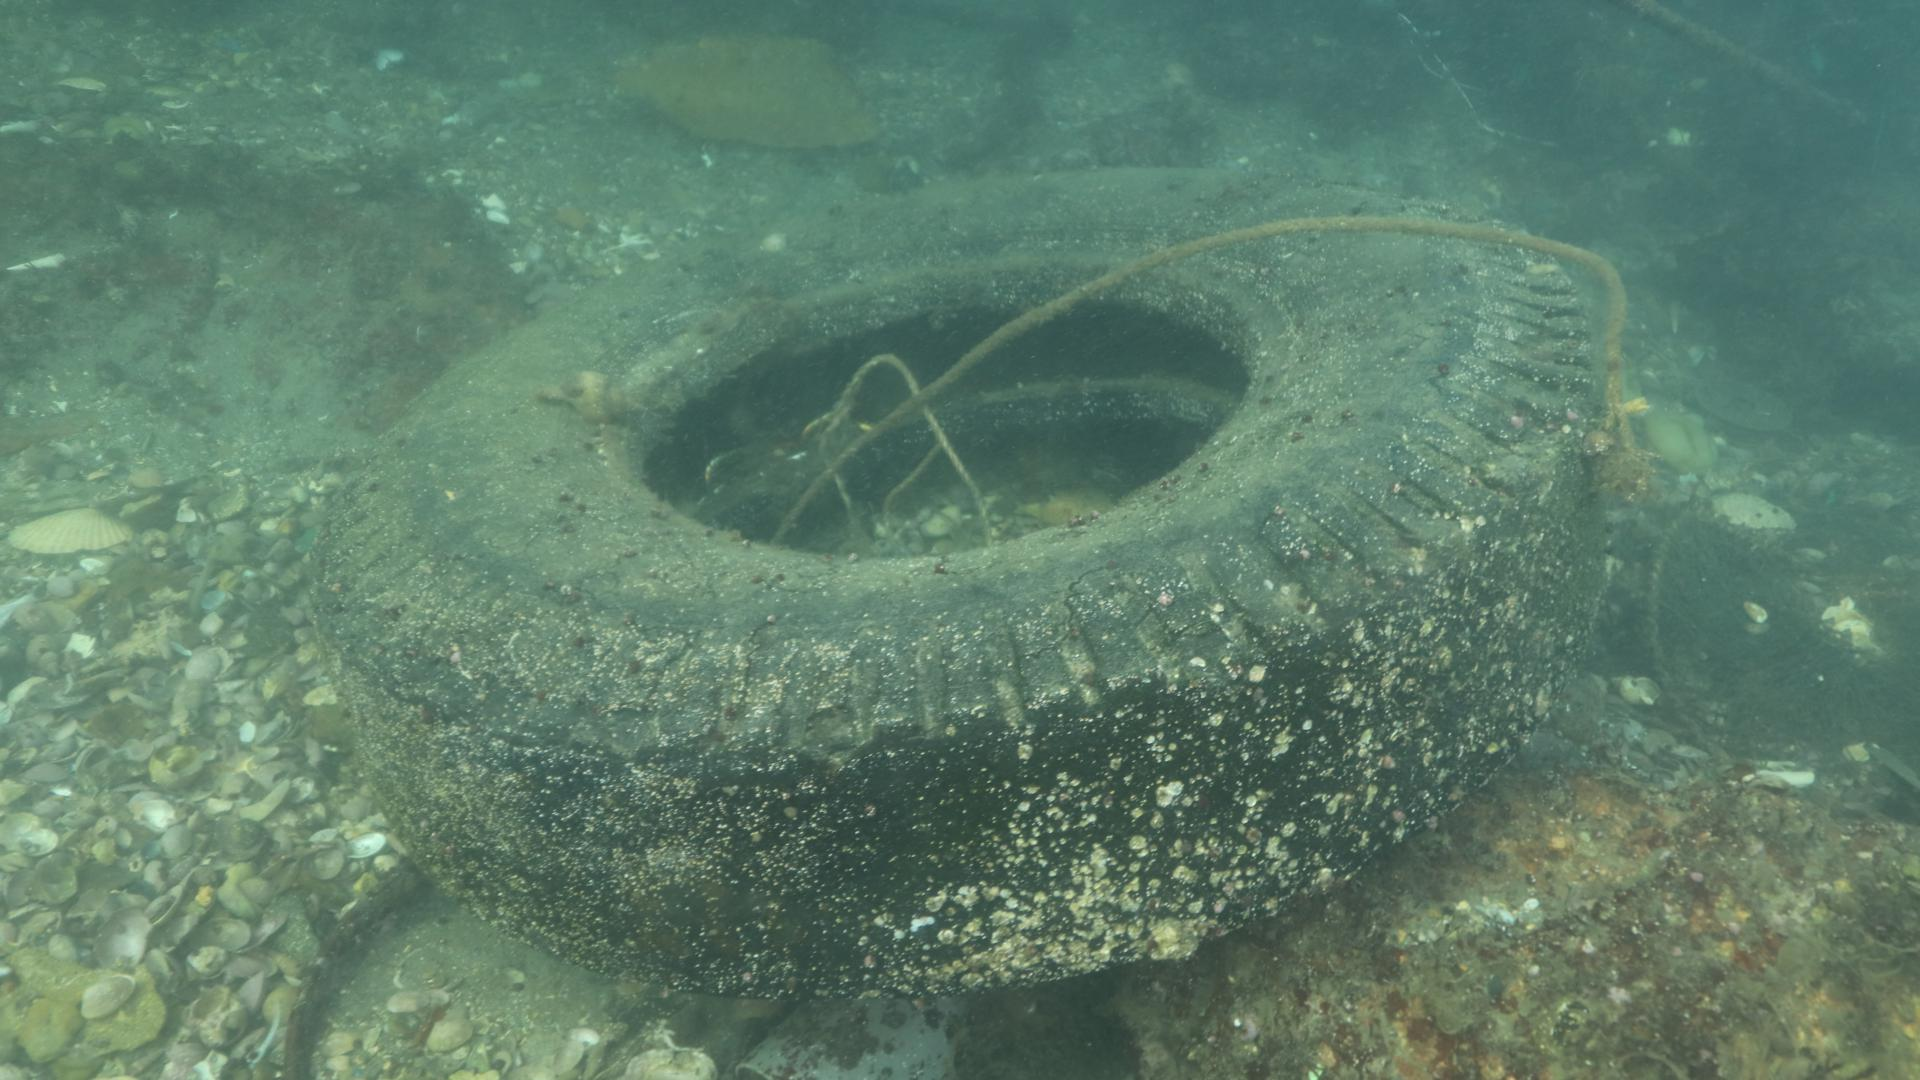bundle of ropes: (767, 208, 1631, 543)
tire: (297, 162, 1610, 998)
